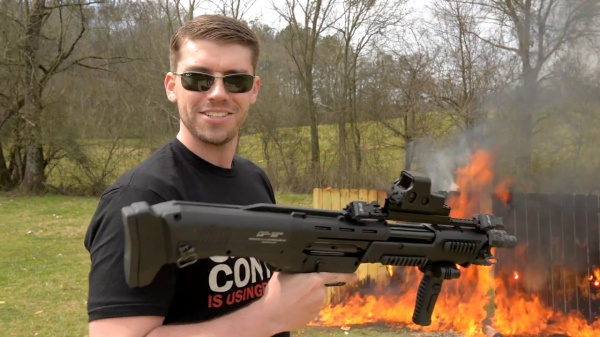ak47: (123, 171, 516, 324)
